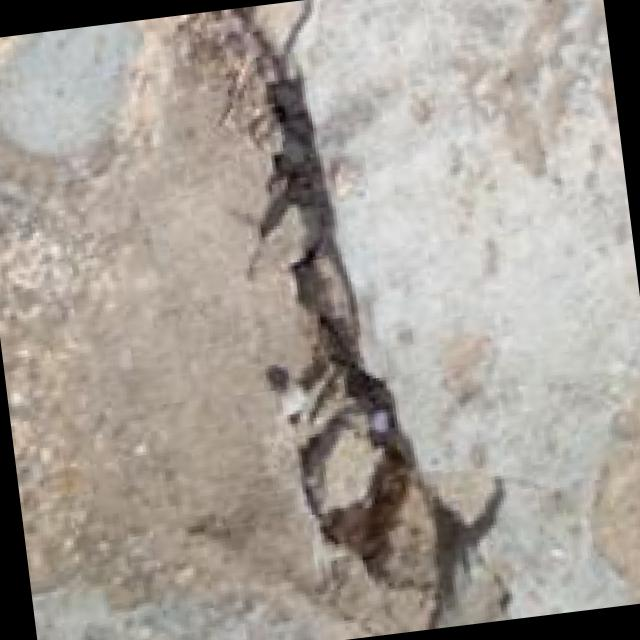crack: (197, 1, 494, 638)
